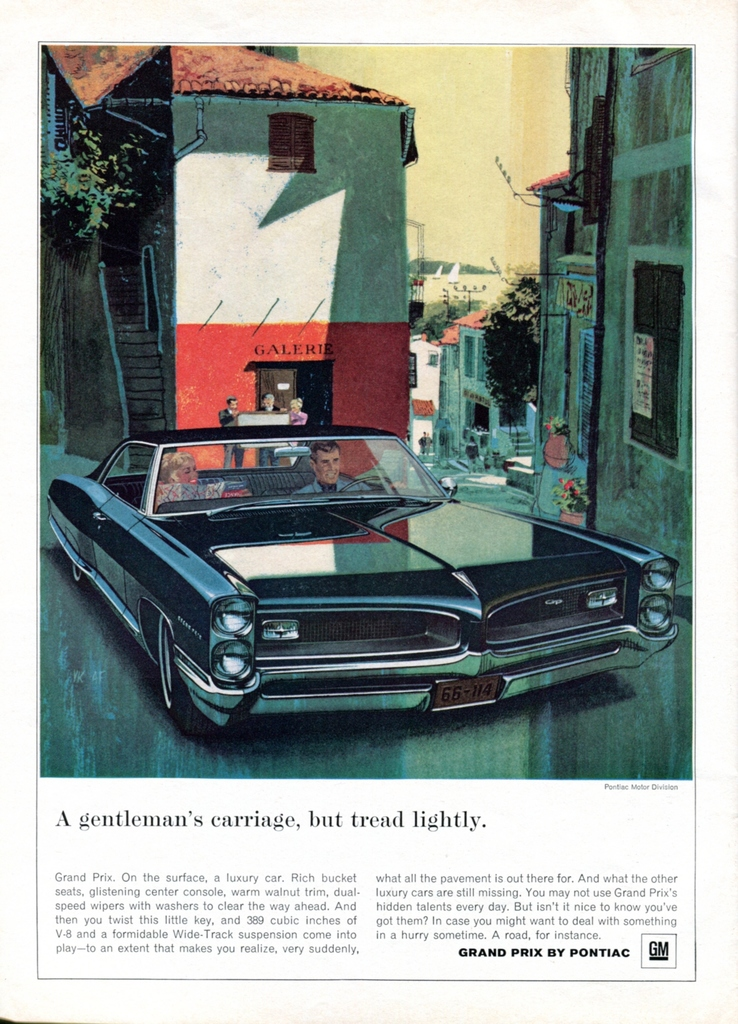cars: (46, 416, 673, 745)
